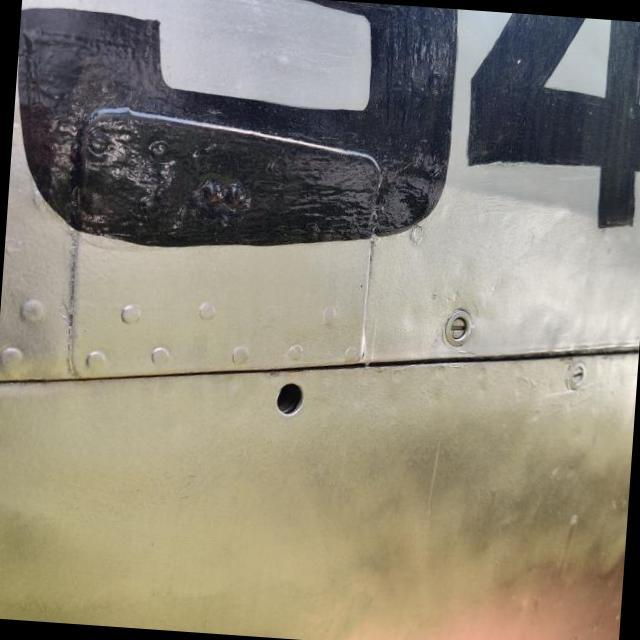Fastener Damage: (241, 336, 336, 443)
